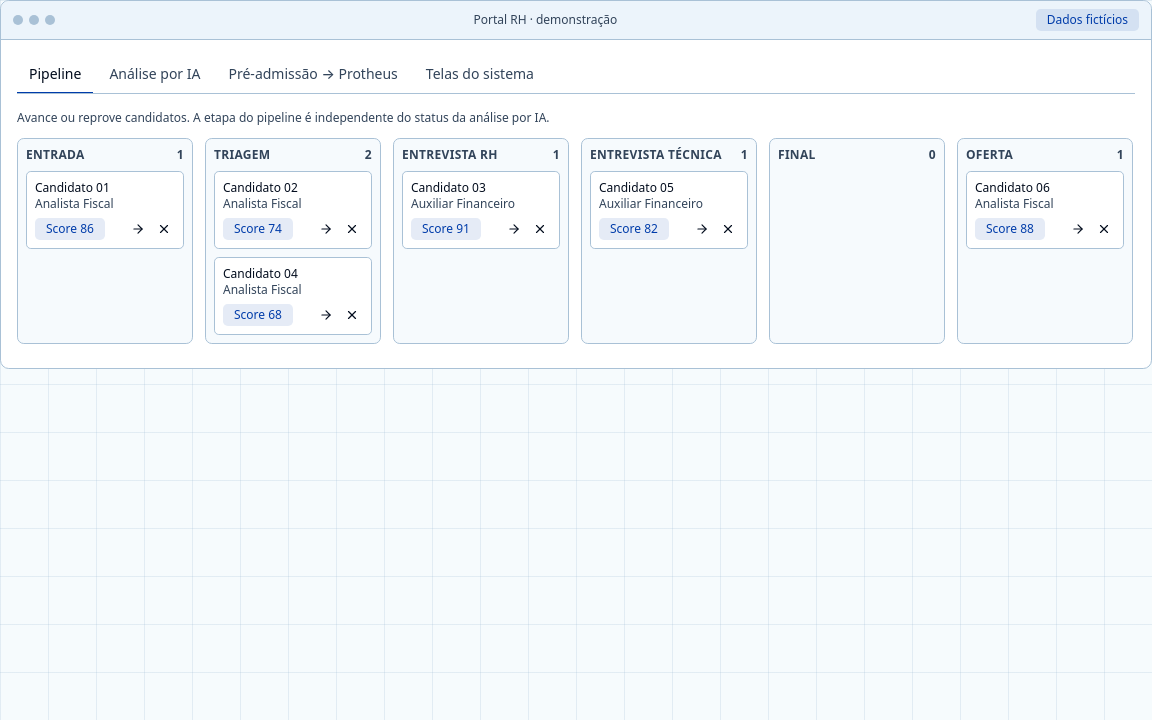
Test: <RhDemo /> › avança um candidato no pipeline
Click the button named "avançar candidato 01 para triagem".
click(138, 229)  # box [127,218,149,240]
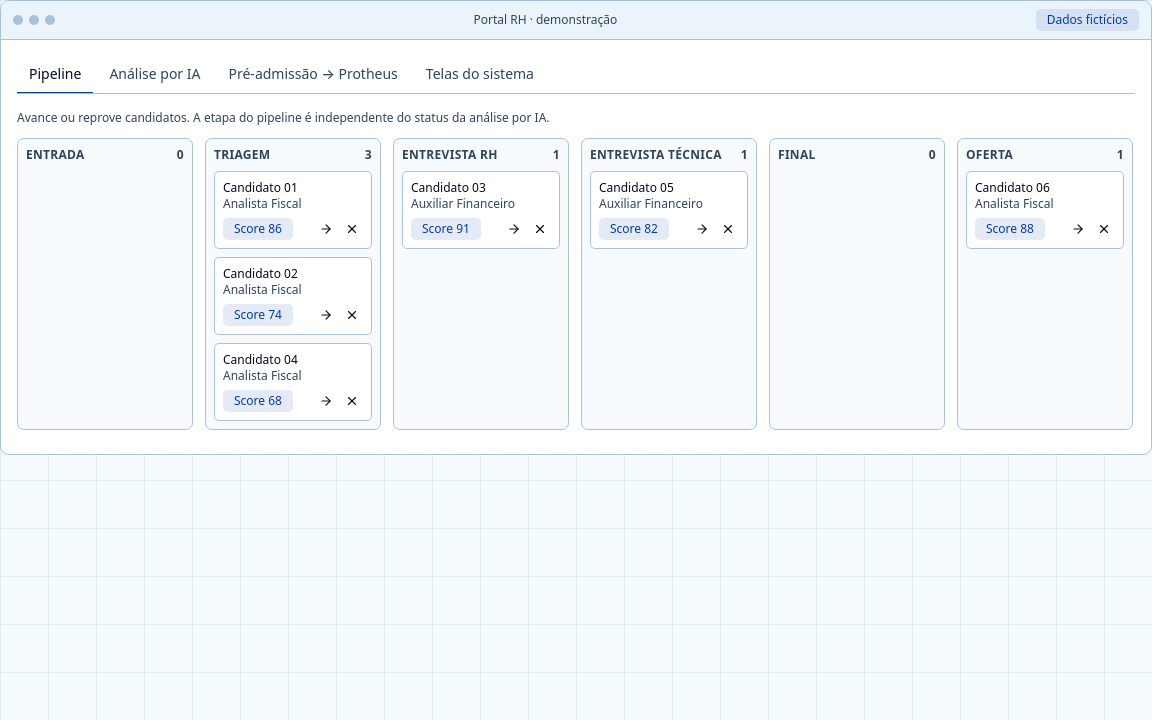
Result: the element "Triagem" shows "Candidato 01" at [223,179,298,196]
